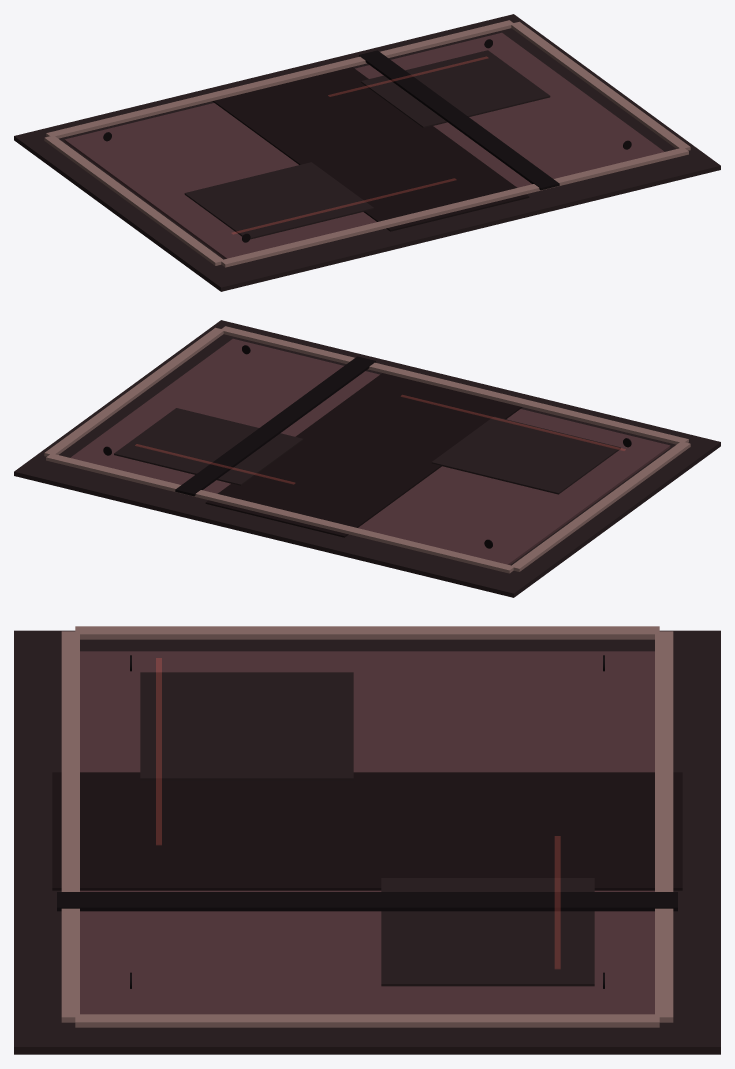
File: hp_room_floor_tile_core.glb
3 renders of one model, top to bottom at view 1: azimuth 30°, elevation 25°; view 2: azimuth 150°, elevation 25°; view 3: azimuth 270°, elevation 25°, orthographic. The views are drawn at different scales.
Parts seen in each view (by area): view 1: core_floor_large_grey_plate, core_floor_slab_base, core_floor_center_worn_path, core_floor_inner_panel_a, core_floor_inner_panel_b, core_floor_front_raised_border, core_floor_back_raised_border, core_floor_dark_cable_trench, core_floor_left_raised_border, core_floor_right_raised_border, core_floor_cyan_line_a; view 2: core_floor_large_grey_plate, core_floor_slab_base, core_floor_center_worn_path, core_floor_inner_panel_a, core_floor_inner_panel_b, core_floor_back_raised_border, core_floor_front_raised_border, core_floor_dark_cable_trench, core_floor_left_raised_border, core_floor_right_raised_border, core_floor_cyan_line_a; view 3: core_floor_large_grey_plate, core_floor_center_worn_path, core_floor_slab_base, core_floor_inner_panel_a, core_floor_inner_panel_b, core_floor_dark_cable_trench, core_floor_right_raised_border, core_floor_left_raised_border, core_floor_front_raised_border, core_floor_back_raised_border, core_floor_cyan_line_a, core_floor_cyan_line_b.
Part boxes in pixels (<box>): core_floor_large_grey_plate: <box>64,32,664,258</box>; core_floor_slab_base: <box>14,14,720,291</box>; core_floor_center_worn_path: <box>212,67,529,231</box>; core_floor_inner_panel_a: <box>184,162,373,239</box>; core_floor_inner_panel_b: <box>361,50,550,127</box>; core_floor_front_raised_border: <box>220,147,688,267</box>; core_floor_back_raised_border: <box>46,20,514,138</box>; core_floor_dark_cable_trench: <box>359,50,559,190</box>; core_floor_left_raised_border: <box>44,135,222,265</box>; core_floor_right_raised_border: <box>511,21,690,150</box>; core_floor_cyan_line_a: <box>232,178,455,234</box>; core_floor_large_grey_plate: <box>70,338,670,564</box>; core_floor_slab_base: <box>14,320,720,597</box>; core_floor_center_worn_path: <box>205,373,522,537</box>; core_floor_inner_panel_a: <box>431,416,620,494</box>; core_floor_inner_panel_b: <box>114,408,303,485</box>; core_floor_back_raised_border: <box>46,453,514,573</box>; core_floor_front_raised_border: <box>220,326,688,444</box>; core_floor_dark_cable_trench: <box>175,356,375,496</box>; core_floor_left_raised_border: <box>512,441,690,571</box>; core_floor_right_raised_border: <box>44,327,223,456</box>; core_floor_cyan_line_a: <box>401,395,625,450</box>; core_floor_large_grey_plate: <box>80,651,654,1014</box>; core_floor_center_worn_path: <box>52,772,682,890</box>; core_floor_slab_base: <box>14,630,720,1054</box>; core_floor_inner_panel_a: <box>140,672,353,780</box>; core_floor_inner_panel_b: <box>381,878,594,986</box>; core_floor_dark_cable_trench: <box>57,892,677,911</box>; core_floor_right_raised_border: <box>75,1014,659,1027</box>; core_floor_left_raised_border: <box>75,626,659,639</box>; core_floor_front_raised_border: <box>61,631,79,1022</box>; core_floor_back_raised_border: <box>655,631,673,1022</box>; core_floor_cyan_line_a: <box>156,658,161,844</box>; core_floor_cyan_line_b: <box>555,836,560,968</box>.
Size of the model in its own units: 4.25 by 0.1505 by 3.05.
